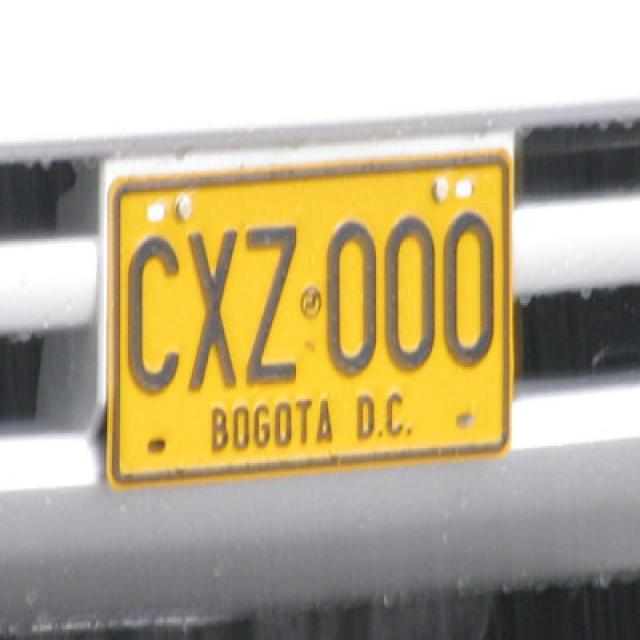placa_carro: (94, 145, 537, 494)
